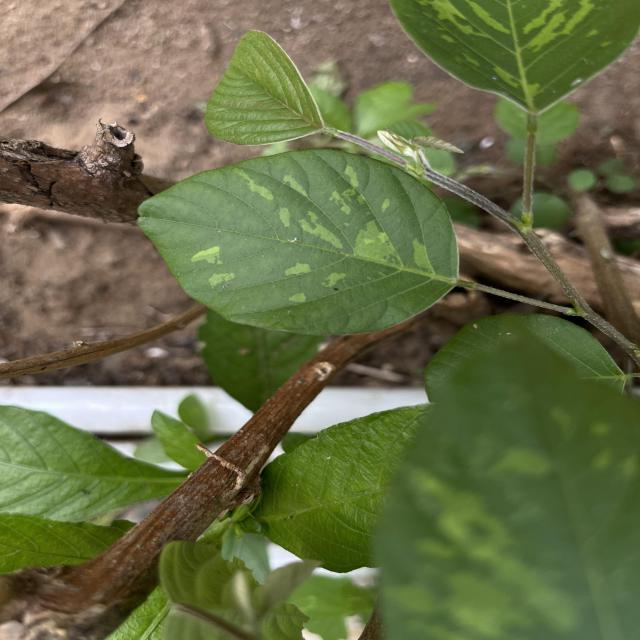Desmodium gangeticum: (134, 144, 462, 340)
